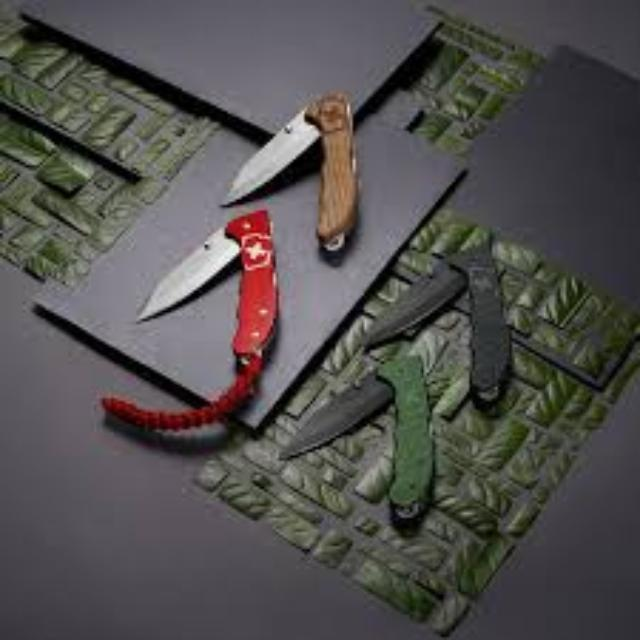Knife: (362, 244, 550, 396), (288, 346, 444, 524), (134, 208, 284, 368), (227, 96, 369, 258), (286, 353, 390, 472), (132, 210, 236, 324), (219, 103, 321, 205), (360, 250, 468, 340)
